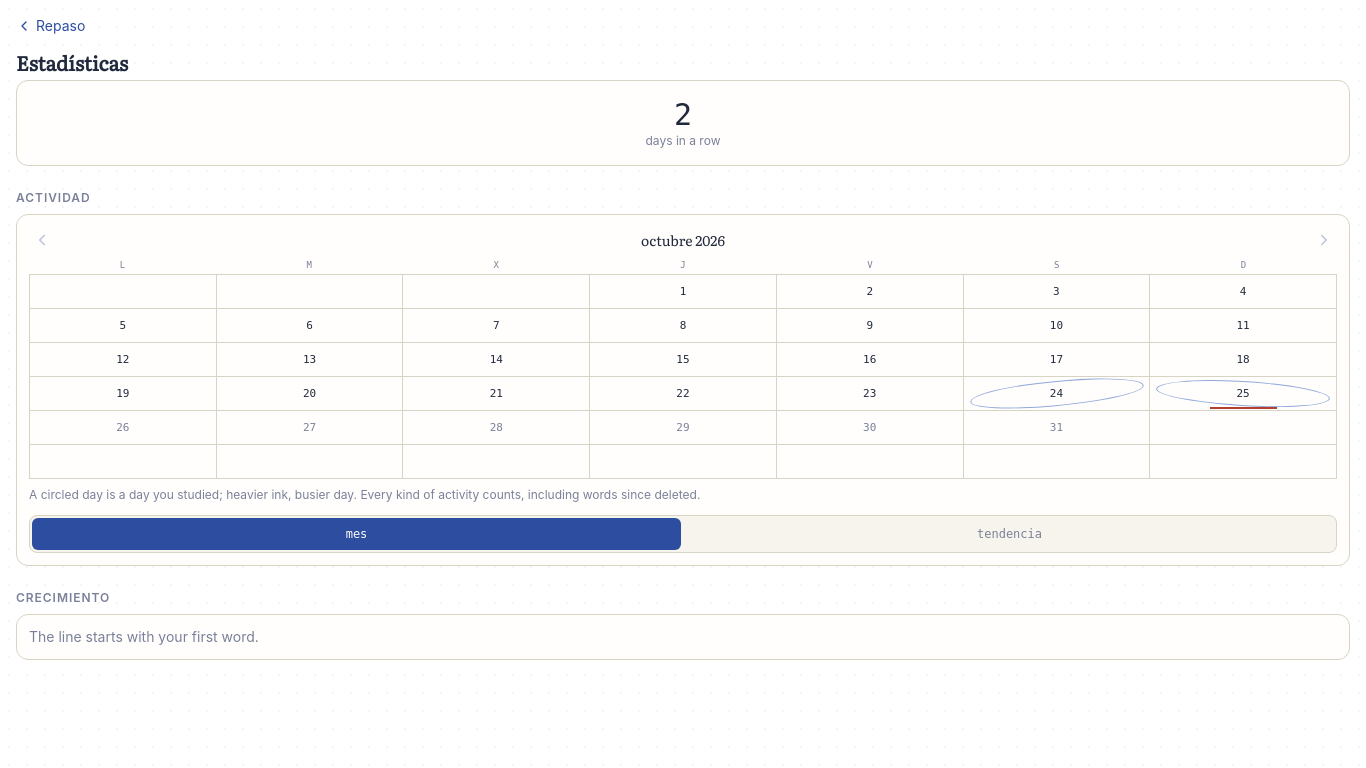
Test: the activity trend view › draws one dot per day the owner showed up, and none for the quiet days
Click the radio button labelled "tendencia" at (1010,534), box top-left (685, 518), bottom-right (1334, 550)
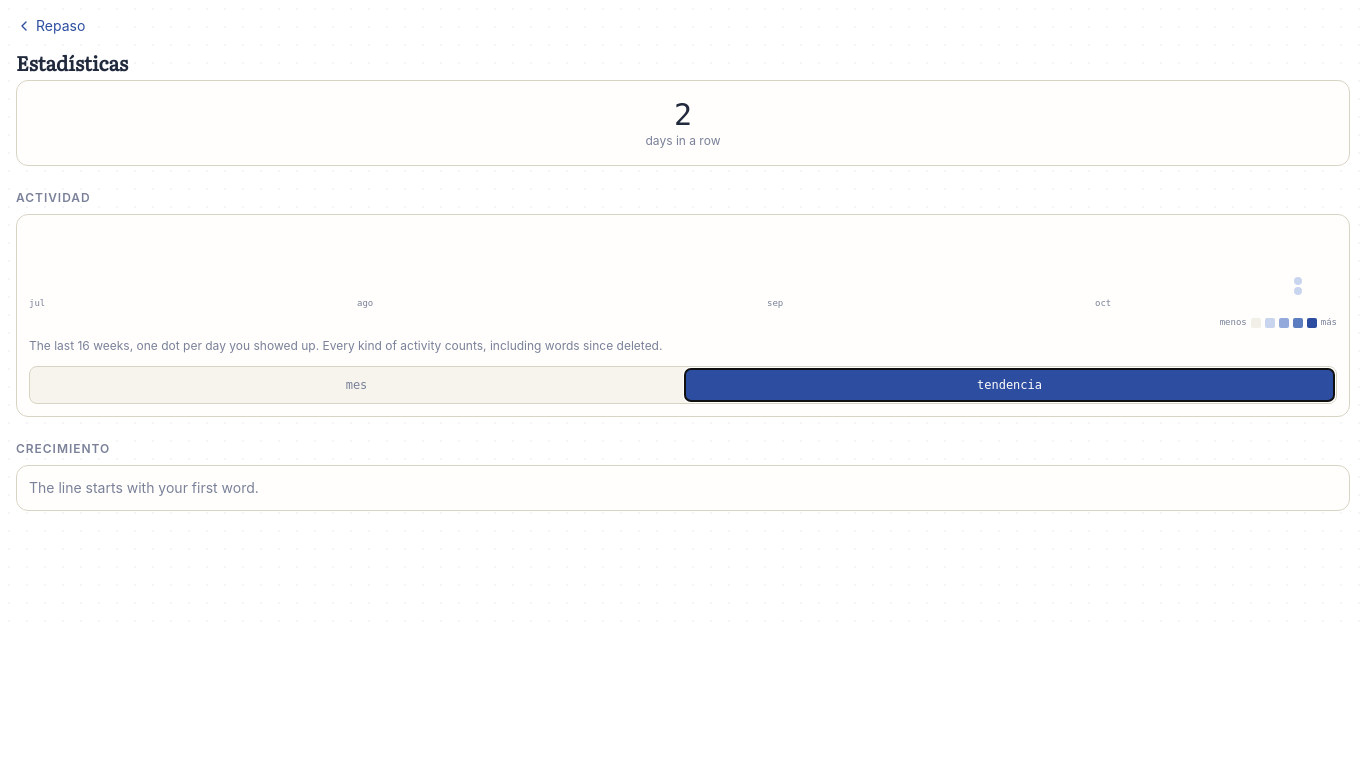
Now the number of elements with class "trend-dot" is 2, box top-left (1294, 287), bottom-right (1302, 295); top-left (1294, 277), bottom-right (1302, 285)
